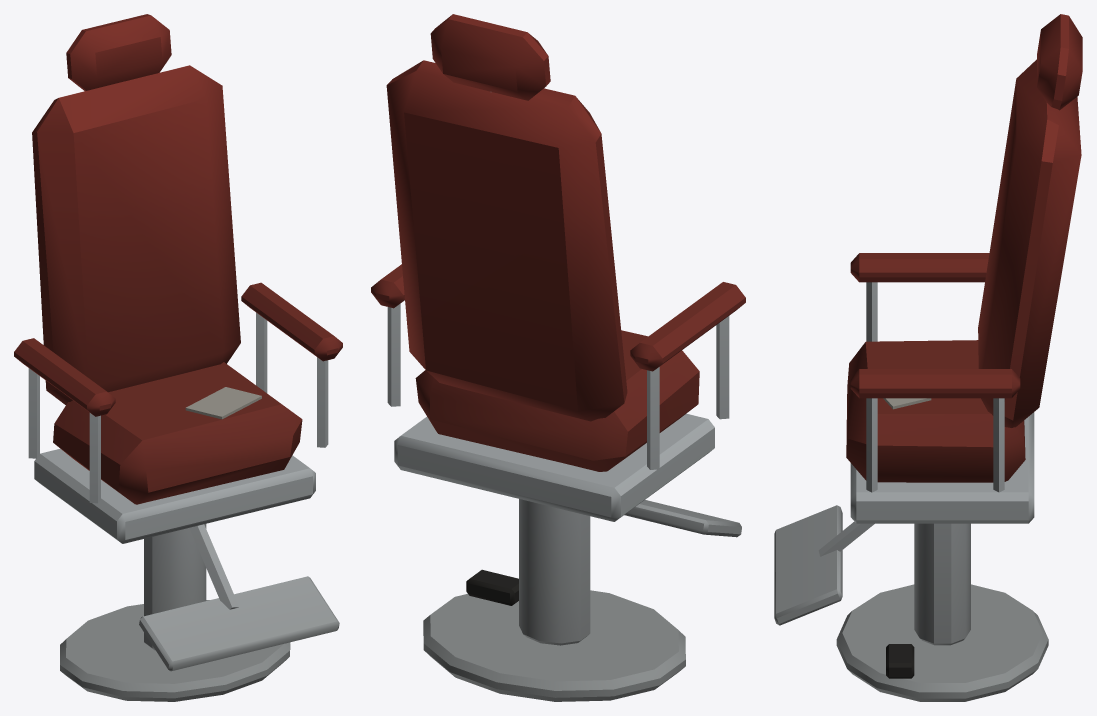
Rendered from 84_fauteuil_barbier.fbx.
3 views of the same model, side by side, from view 1: azimuth 30°, elevation 25°; view 2: azimuth 150°, elevation 25°; view 3: azimuth 270°, elevation 25° (orthographic). The views are drawn at different scales.
Visible parts, largest first — view 1: Siege, Pied; view 2: Siege, Pied; view 3: Siege, Pied.
Boxes of the visible parts, box(x1,y1,x2,y2) form: Siege: box(14, 14, 342, 543); Pied: box(60, 524, 339, 701); Siege: box(371, 14, 745, 521); Pied: box(423, 499, 741, 701); Siege: box(846, 14, 1082, 523); Pied: box(774, 505, 1048, 701).
Bounding box in the file's own units: 0.504 × 1.12 × 0.504.
Materials: 1 (1 with a texture image).
